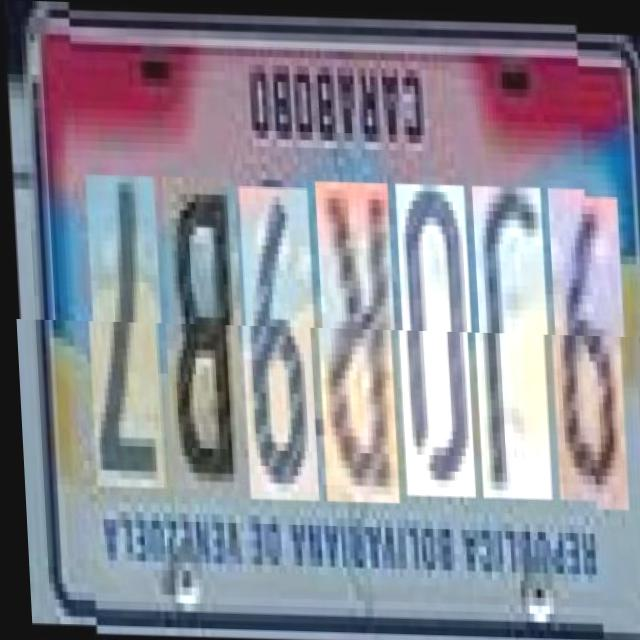0: (388, 180, 470, 494)
7: (79, 173, 159, 487)
9: (541, 184, 623, 498), (233, 185, 313, 499)
b: (155, 176, 242, 498)
j: (465, 182, 547, 496)
r: (308, 179, 395, 501)
